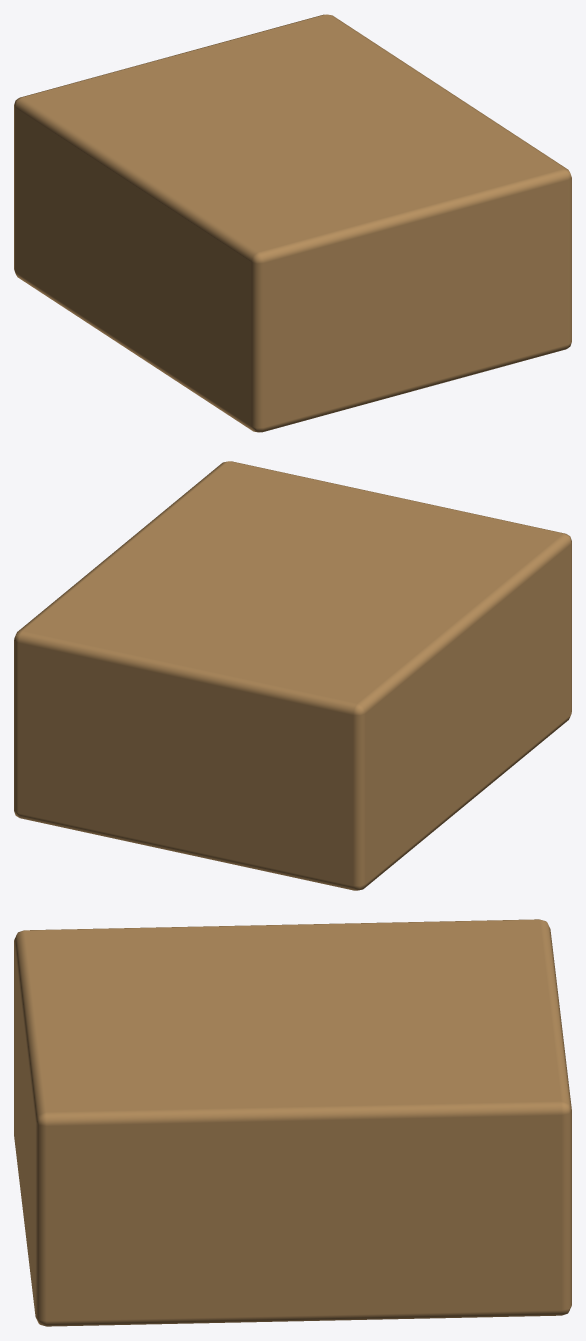
The model's file is wardrobe_box_a.fbx.
3 views of the same model, one above another, from view 1: azimuth 30°, elevation 25°; view 2: azimuth 150°, elevation 25°; view 3: azimuth 270°, elevation 25° (orthographic). The views are drawn at different scales.
Parts seen in each view (by area): view 1: wardrobe_box_a; view 2: wardrobe_box_a; view 3: wardrobe_box_a.
Boxes of the visible parts, bbox=[...] form: wardrobe_box_a: bbox=[14, 14, 571, 432]; wardrobe_box_a: bbox=[14, 461, 571, 890]; wardrobe_box_a: bbox=[14, 919, 571, 1326].
Size of the model in its own units: 0.4435 by 0.22 by 0.5194.
